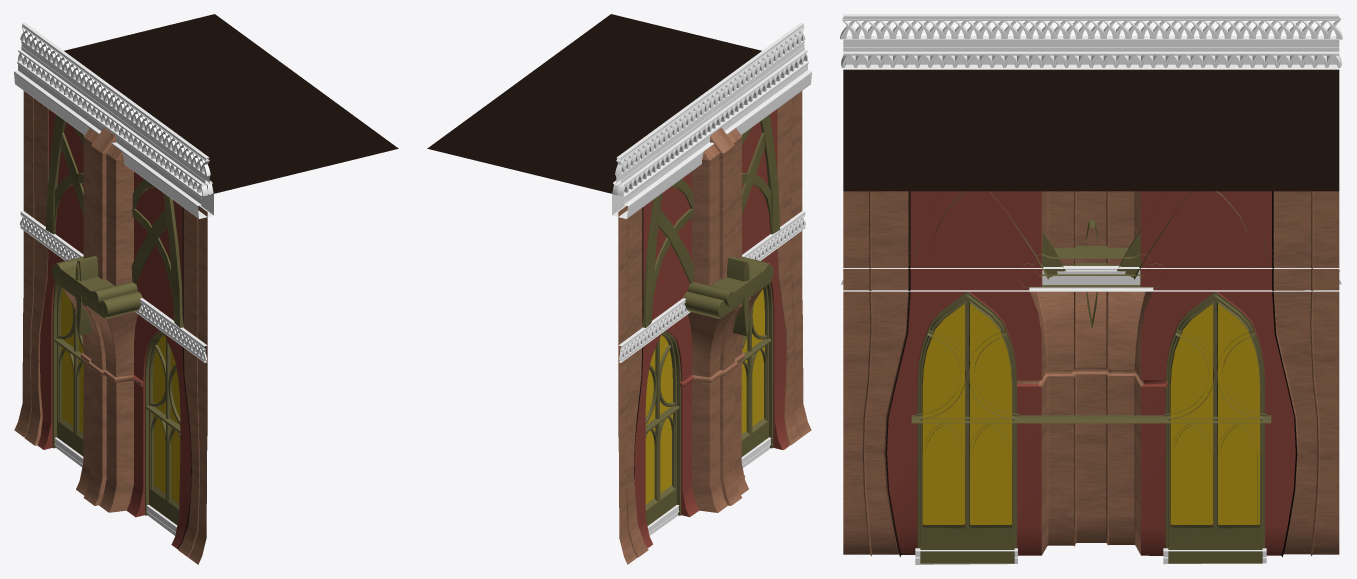
The model's file is Geonosis_HousingFassade01.fbx.
The picture shows the model from 3 angles, left to right: view 1: azimuth 30°, elevation 25°; view 2: azimuth 150°, elevation 25°; view 3: azimuth 270°, elevation 25°; orthographic projection. The views are drawn at different scales.
Parts seen in each view (by area): view 1: Geonosis_HousingFassade01; view 2: Geonosis_HousingFassade01; view 3: Geonosis_HousingFassade01.
Part boxes in pixels (box(x1,y1,x2,y2)): Geonosis_HousingFassade01: box(14, 14, 398, 564); Geonosis_HousingFassade01: box(427, 14, 811, 564); Geonosis_HousingFassade01: box(840, 14, 1342, 564).
Bounding box in the file's own units: 723 × 1217 × 1013.
